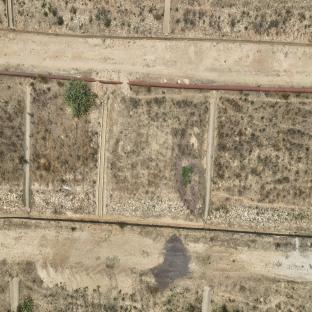rock_toe: (106, 192, 203, 223), (209, 202, 311, 230), (32, 187, 96, 213)
slope_drain: (203, 98, 218, 220), (96, 105, 108, 217), (23, 86, 31, 212), (6, 0, 15, 29), (163, 0, 170, 36)
toe_drain: (0, 214, 312, 238), (15, 29, 312, 47)
vegetation: (63, 82, 95, 121)
